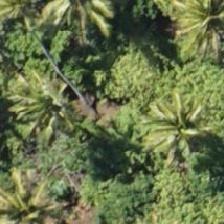coconut_tree: (0, 57, 88, 147), (135, 76, 223, 166), (0, 165, 71, 223), (161, 0, 223, 65)
